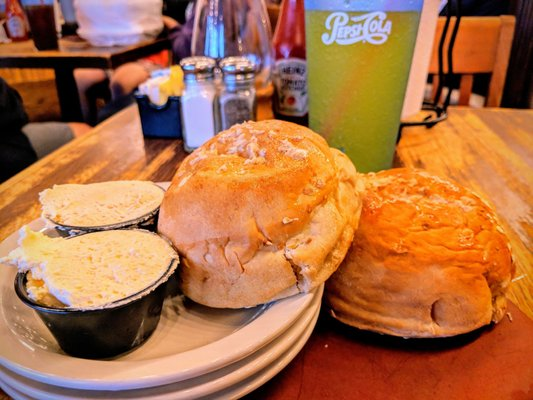soup: (156, 119, 363, 310)
sushi: (15, 228, 180, 359)
